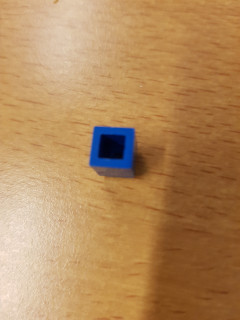1x1 blue: (85, 123, 141, 182)
